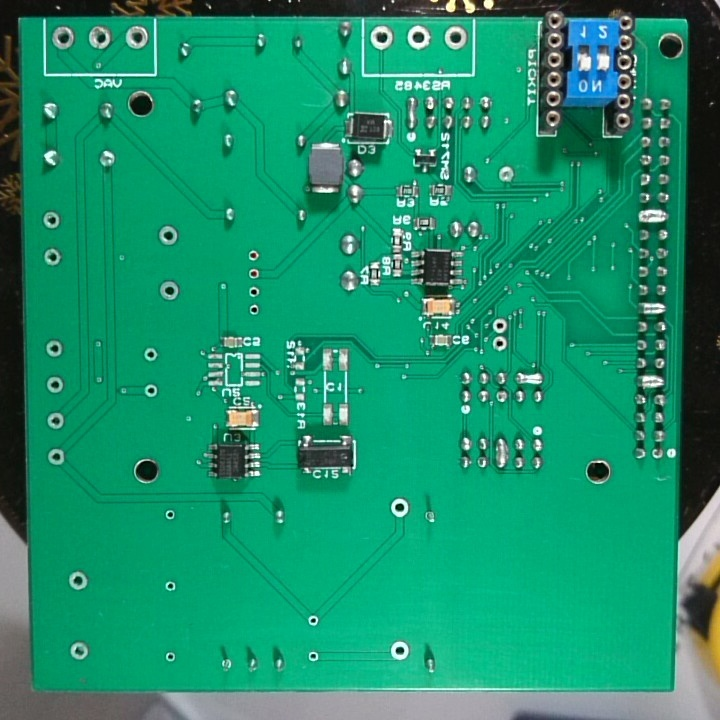F: (48, 23, 79, 56), (441, 23, 470, 55), (84, 23, 116, 52), (367, 22, 397, 52), (384, 636, 413, 666), (123, 22, 150, 54), (404, 23, 433, 52), (65, 566, 93, 596), (43, 442, 70, 471), (93, 146, 121, 173), (40, 336, 69, 362), (41, 243, 65, 273), (67, 640, 94, 666), (387, 494, 408, 525), (156, 222, 180, 249), (157, 278, 183, 302), (39, 206, 63, 232), (42, 372, 67, 395), (44, 409, 68, 432), (216, 654, 238, 679), (496, 163, 518, 186), (490, 315, 510, 335), (490, 333, 510, 353), (141, 380, 161, 400), (648, 444, 667, 464), (141, 344, 161, 363), (162, 504, 180, 525), (421, 508, 442, 526), (162, 578, 179, 597), (493, 387, 509, 407), (247, 300, 263, 320), (161, 649, 179, 666), (244, 283, 262, 299), (247, 247, 263, 264), (305, 612, 321, 629), (247, 265, 262, 282), (305, 648, 319, 666)
P: (633, 371, 667, 391), (493, 435, 510, 473), (636, 208, 671, 226), (404, 94, 421, 131), (514, 369, 545, 388), (636, 300, 667, 318)
